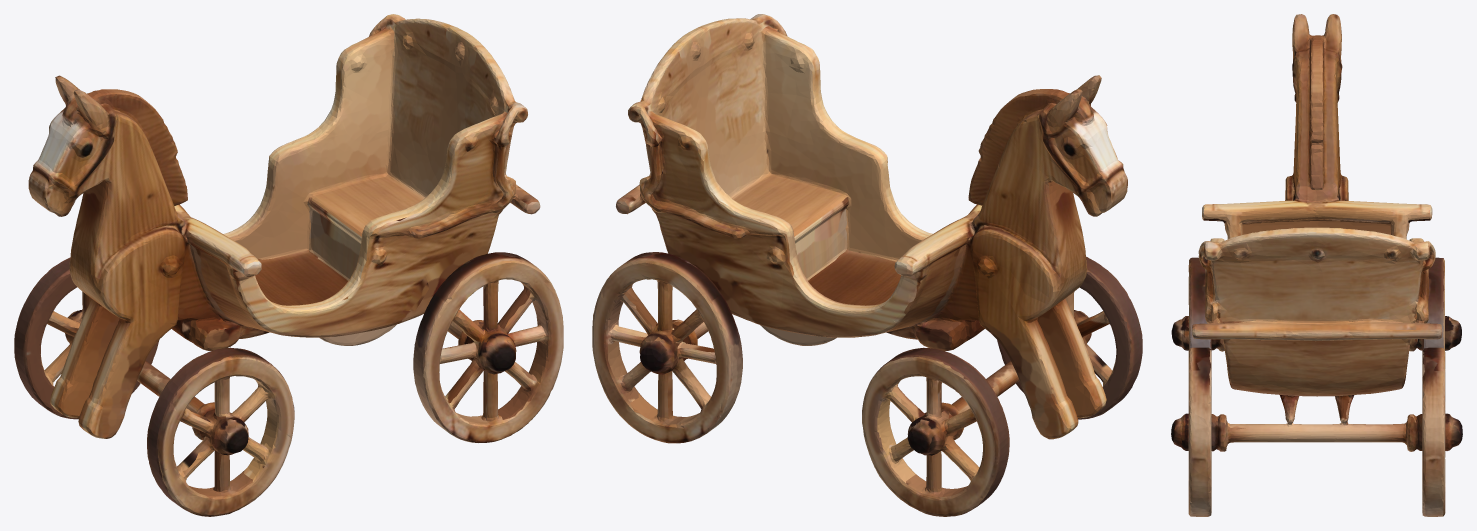
The model's file is mdl_carriage_001.glb.
3 views of the same model, side by side, from view 1: azimuth 30°, elevation 25°; view 2: azimuth 150°, elevation 25°; view 3: azimuth 270°, elevation 25° (orthographic). The views are drawn at different scales.
Visible parts, largest first — view 1: tmpljt4zop_.ply; view 2: tmpljt4zop_.ply; view 3: tmpljt4zop_.ply.
Boxes of the visible parts, x1=… form: tmpljt4zop_.ply: x1=14, y1=14, x2=563, y2=516; tmpljt4zop_.ply: x1=592, y1=14, x2=1142, y2=516; tmpljt4zop_.ply: x1=1171, y1=14, x2=1462, y2=516.
Size of the model in its own units: 0.9904 by 0.8288 by 0.6236.
Materials: 1 (1 with a texture image).
